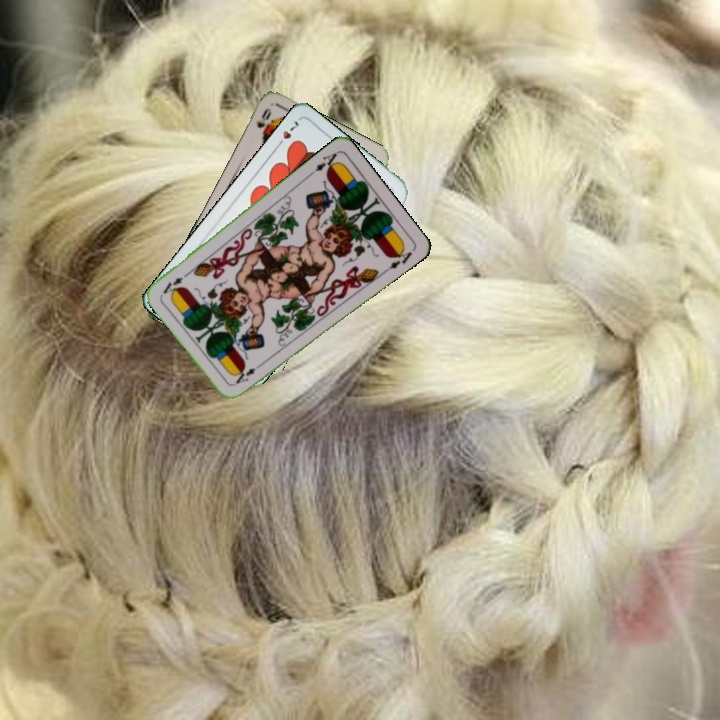EA: (230, 359, 265, 388), (311, 147, 342, 174)
H7: (272, 116, 301, 151)
SO: (252, 104, 274, 137)
